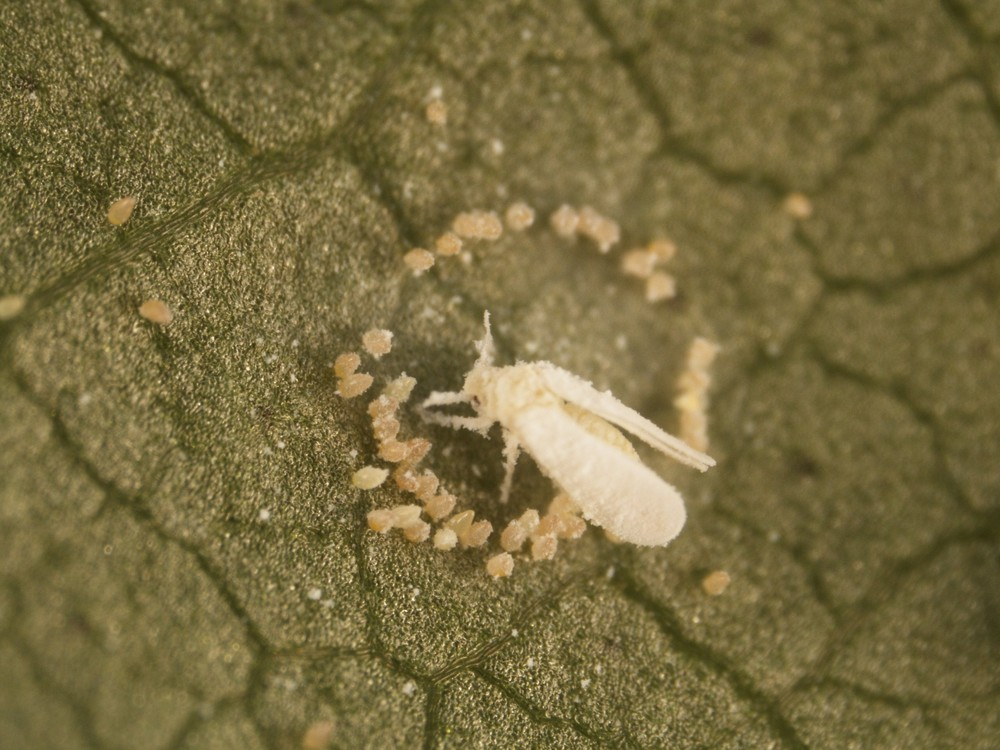Mosca Blanca: (433, 311, 719, 572)
